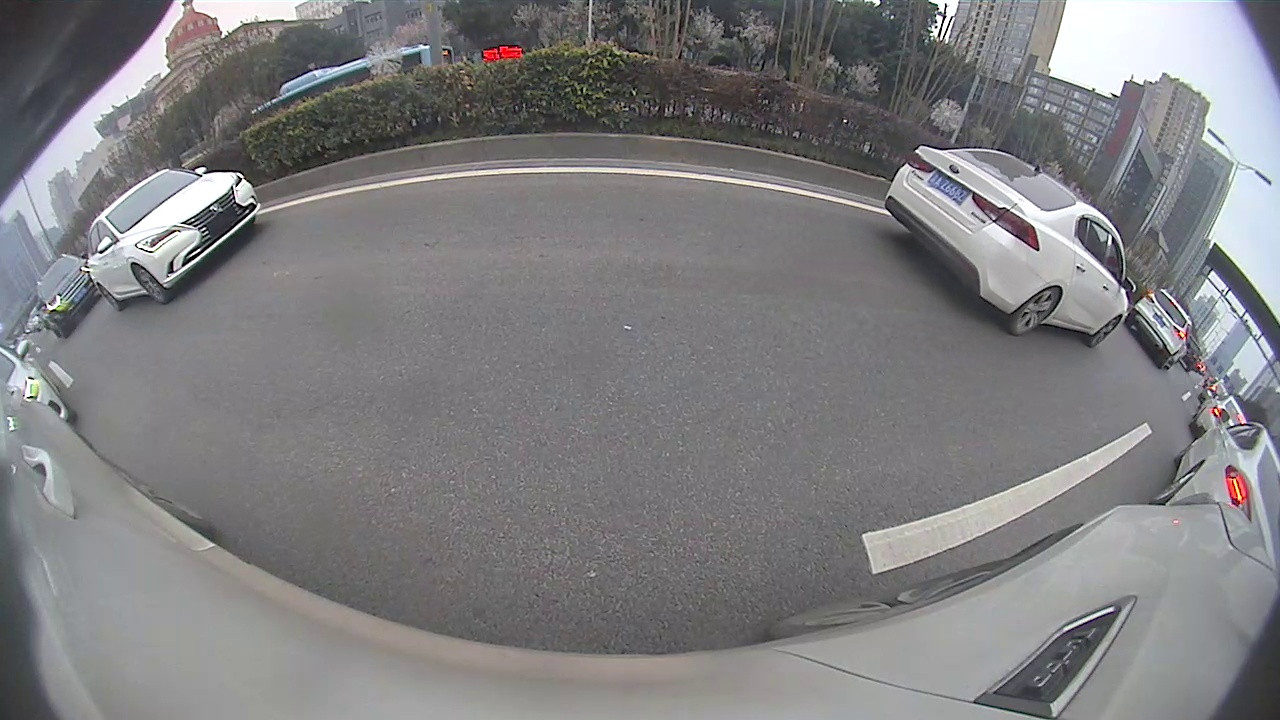car: (883, 141, 1137, 350), (85, 165, 263, 311), (1150, 408, 1277, 562), (1129, 287, 1195, 371)
front: (129, 261, 169, 304), (1089, 315, 1121, 348)
rear: (1010, 285, 1066, 334), (97, 281, 122, 313)
